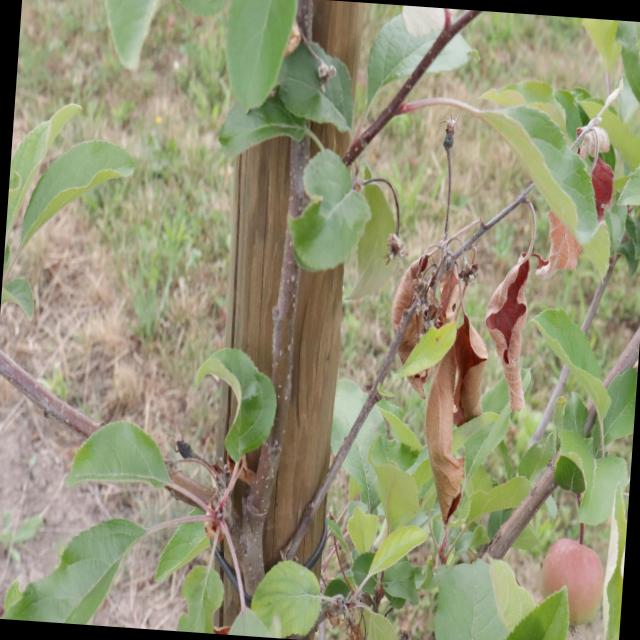-FireBlight-: (392, 236, 491, 560), (482, 255, 541, 429), (539, 201, 583, 283), (584, 125, 615, 226)
